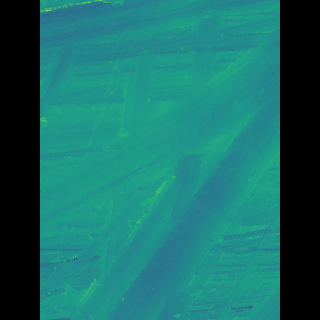Loch: (96, 27, 250, 320), (69, 158, 177, 303)
